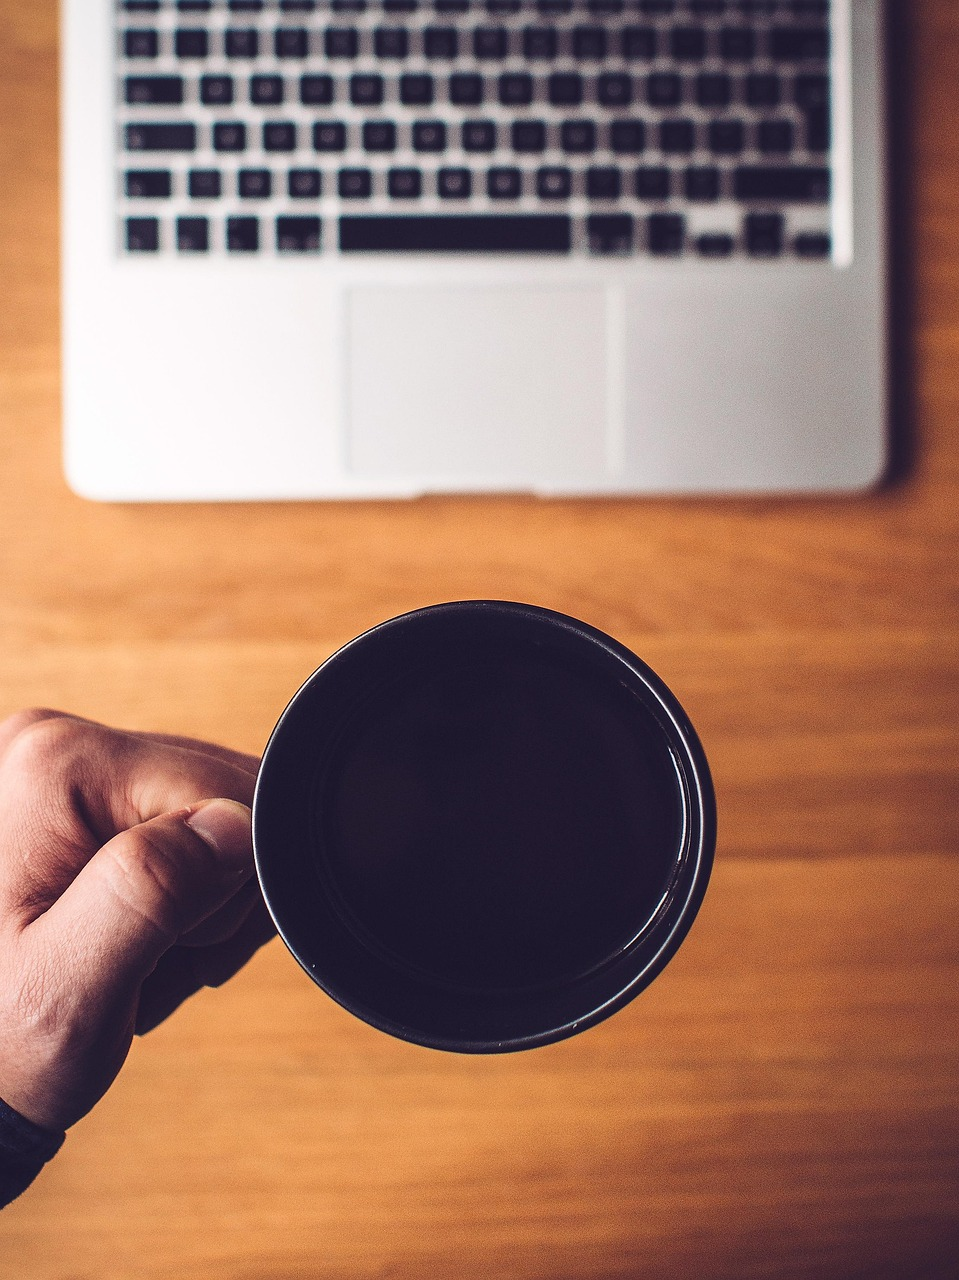mug: (197, 587, 741, 1079)
